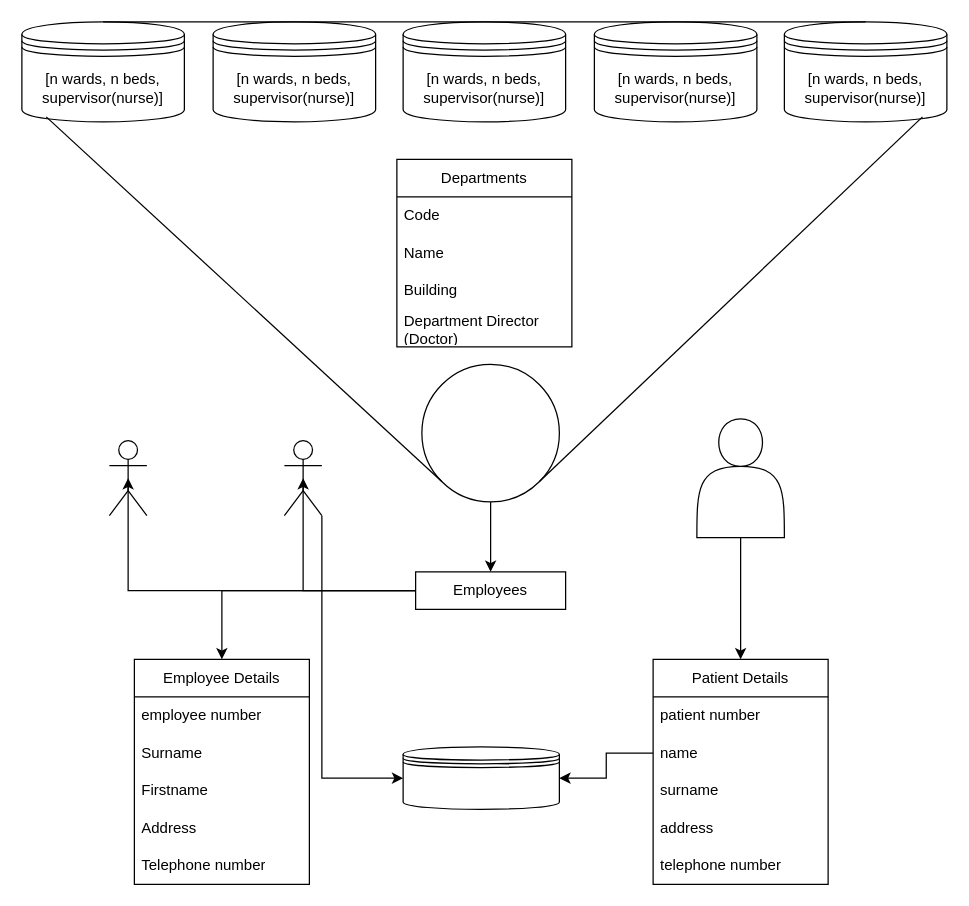
This 969x906 diagram has some shape labels left out. The shapes that lost their labels are listed below. From the top down, each one's centre as x and y in pixels, then its label:
At (x=490, y=432): "Hospital Information System".
At (x=127, y=477): "Nurses".
At (x=302, y=477): "Doctors(Known specialty)".
At (x=740, y=478): "Patient".
At (x=480, y=777): "Patient In-Treatment".
